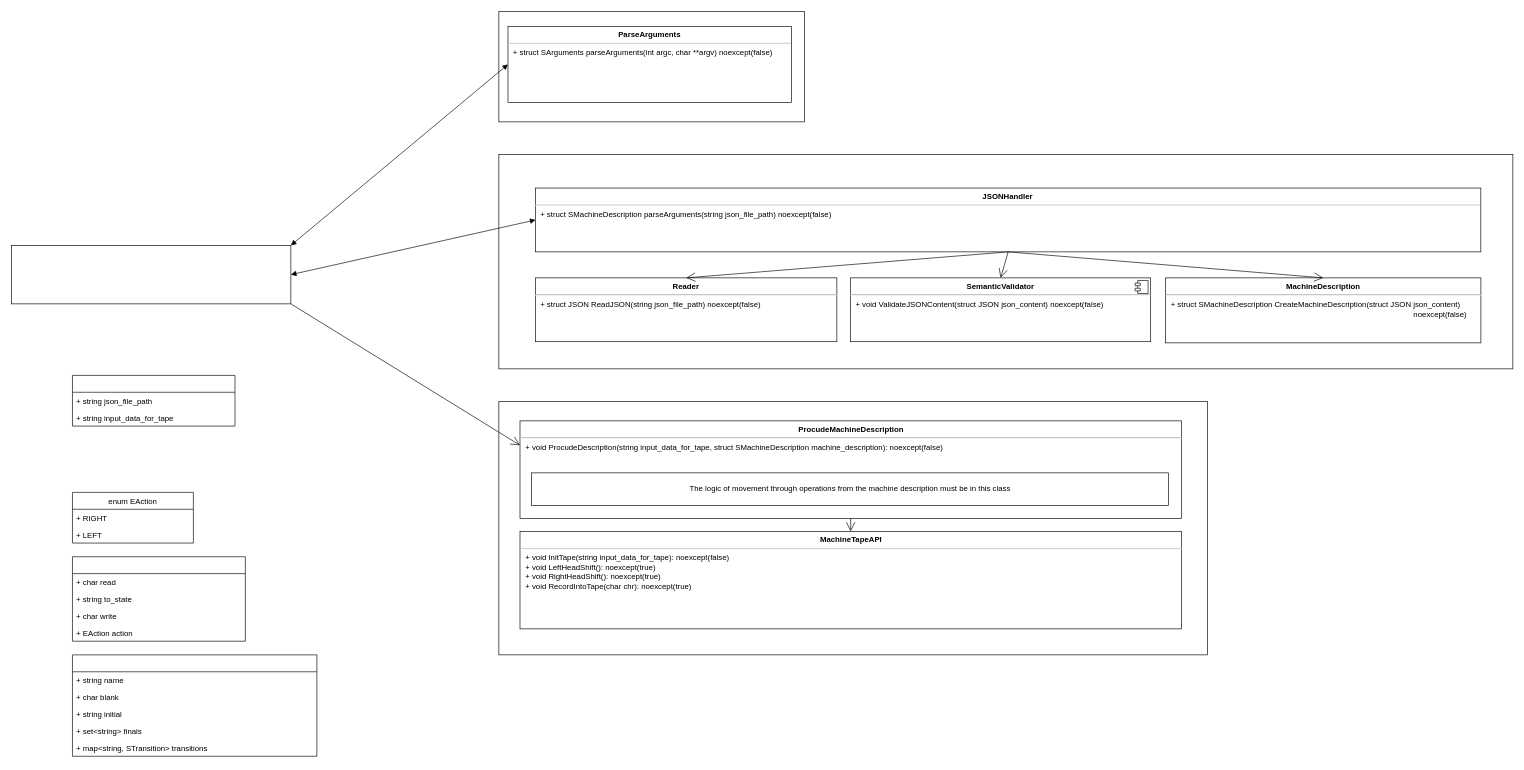
This 1524x770 diagram has some shape labels left out. Here are the shapes that lost their labels. From the top down, the box of each, then its label:
(11, 245, 291, 304): Main + main(int argc, char **argv)
(72, 375, 235, 426): struct SArguments
(72, 556, 245, 641): struct STransition
(72, 654, 317, 756): struct SMachineDescription
